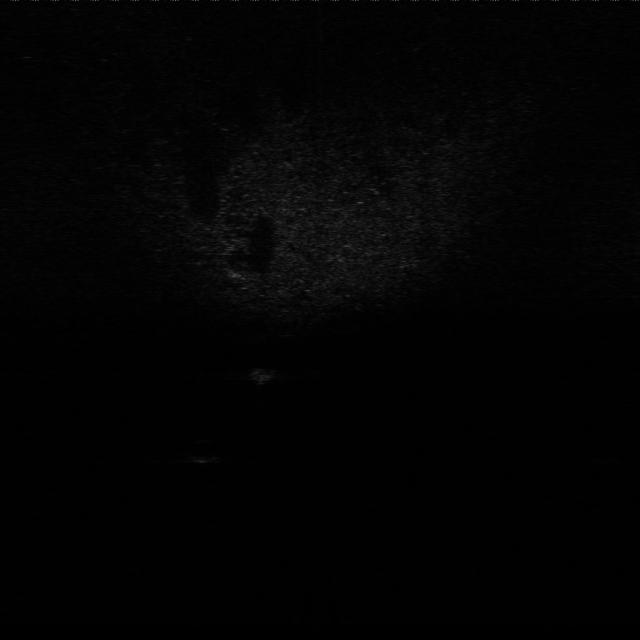ball: (190, 445, 220, 468)
cube: (246, 363, 282, 386)
